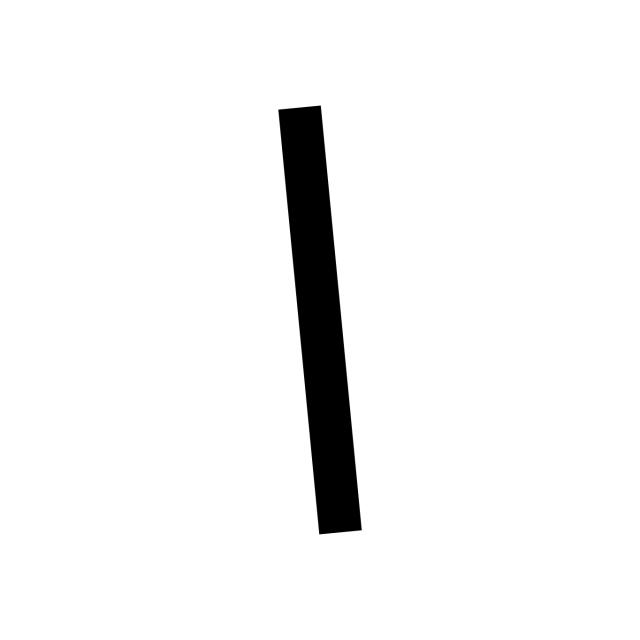line: (278, 105, 362, 534)
